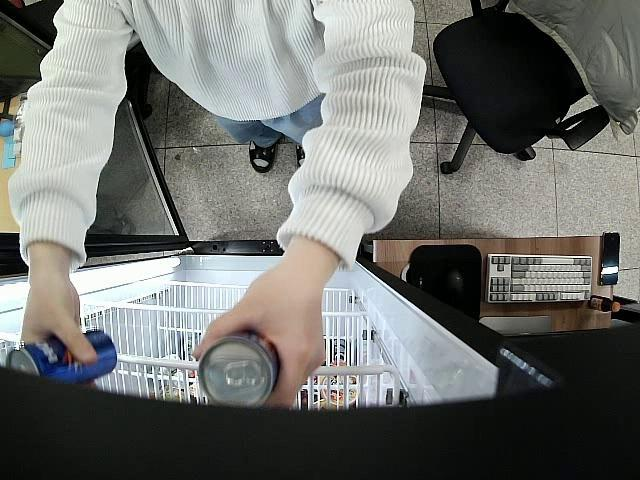16_hot6: (196, 329, 280, 409), (7, 330, 118, 384)
